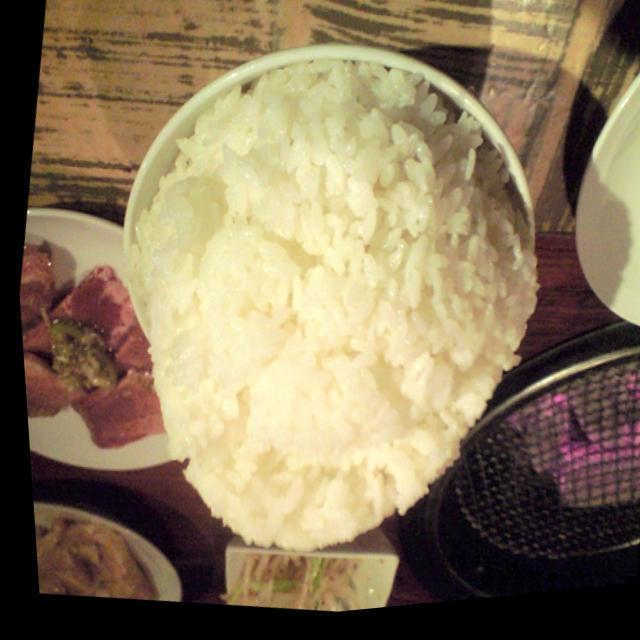rice: (77, 8, 590, 604)
